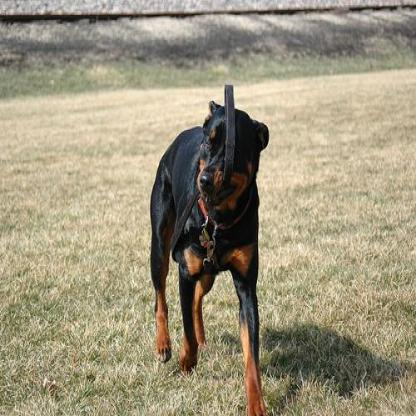Rottweiler: (148, 82, 270, 414)
